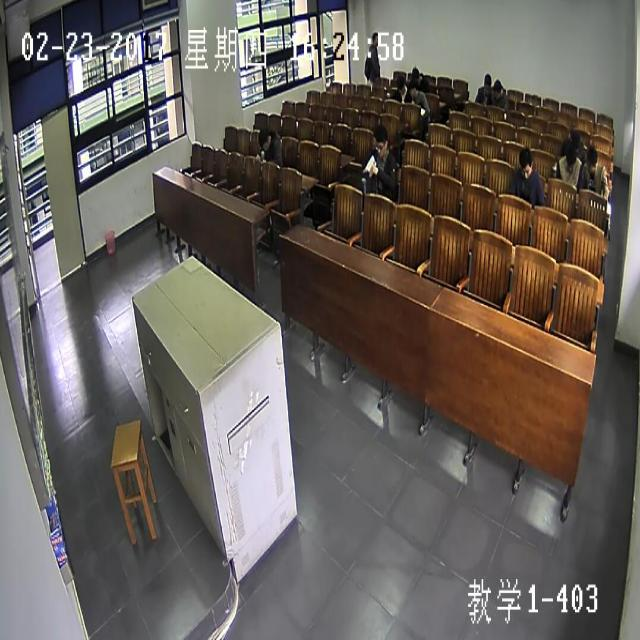person: (520, 144, 532, 176), (375, 126, 386, 158), (586, 146, 596, 171), (259, 125, 269, 149), (566, 143, 574, 167), (572, 131, 580, 152), (408, 78, 417, 96), (396, 72, 404, 91), (493, 77, 500, 97), (484, 72, 490, 94), (412, 66, 418, 84), (372, 31, 379, 45)
